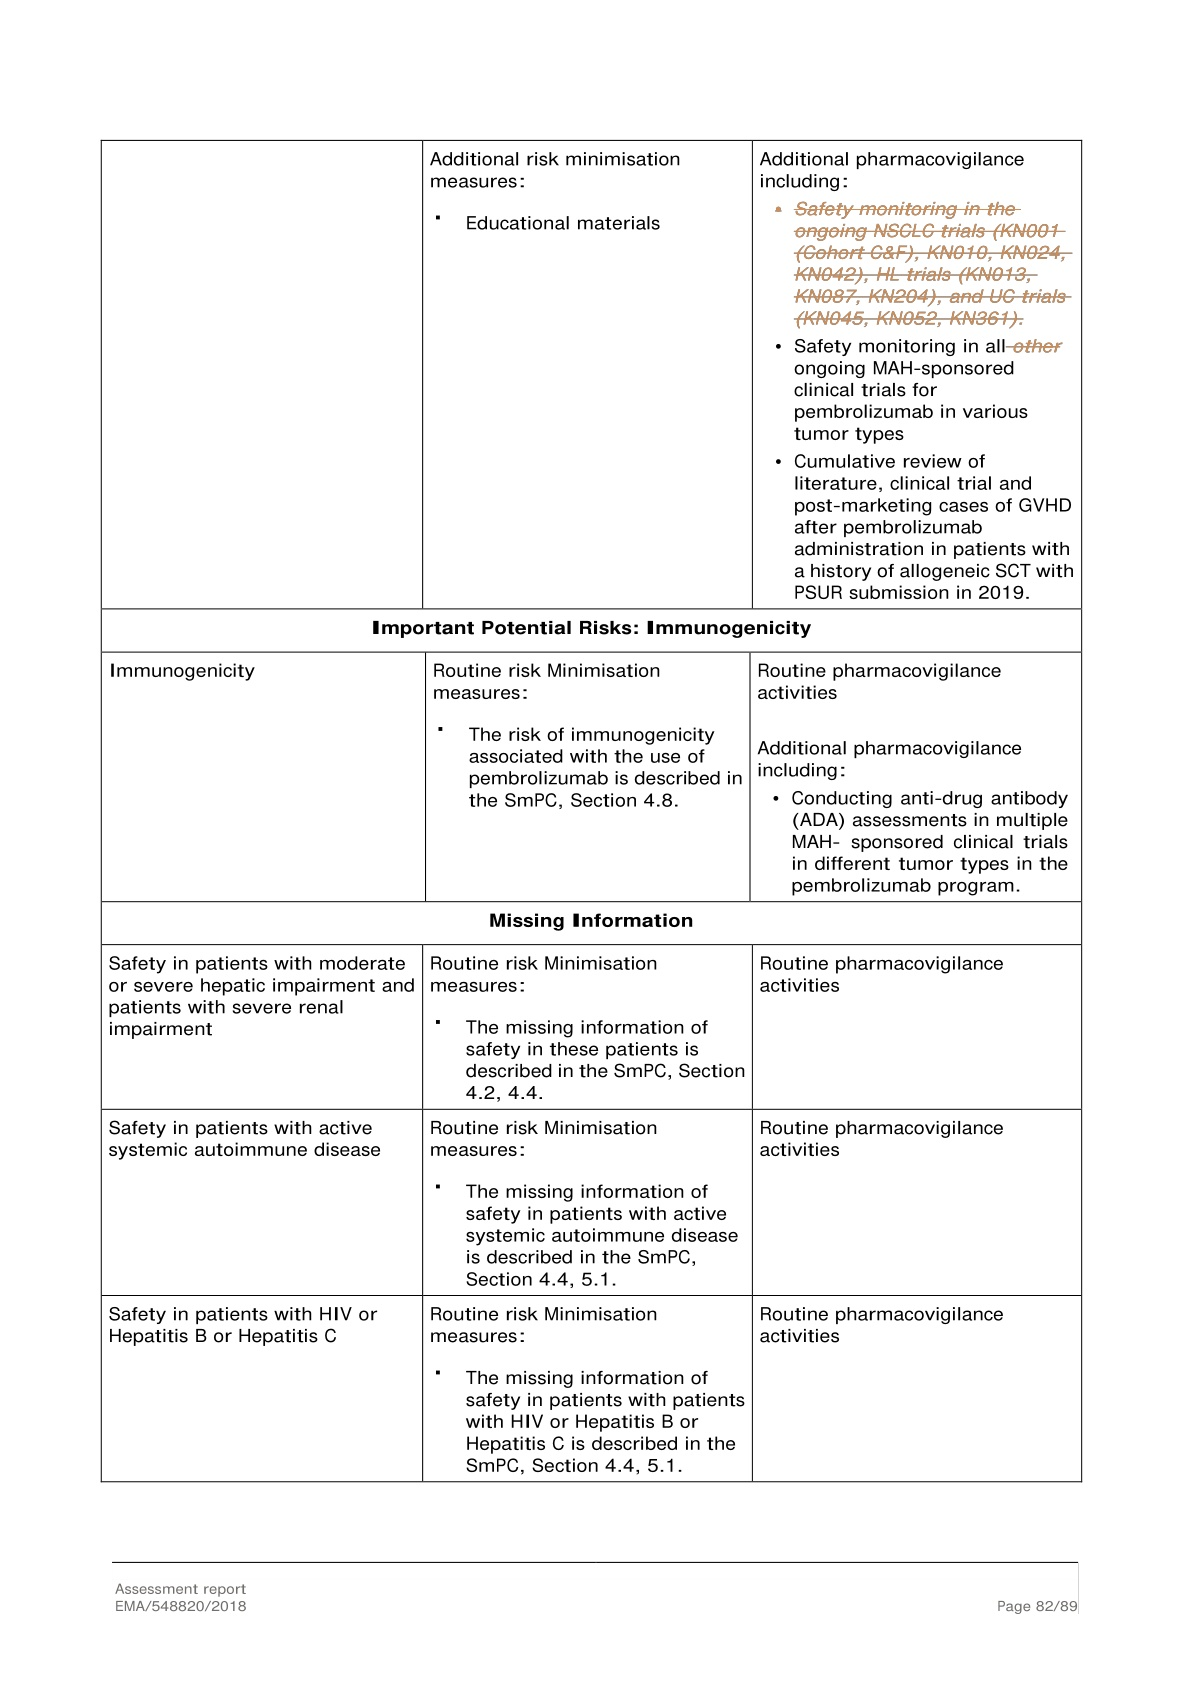merged_cells: (100, 138, 1083, 1482)
